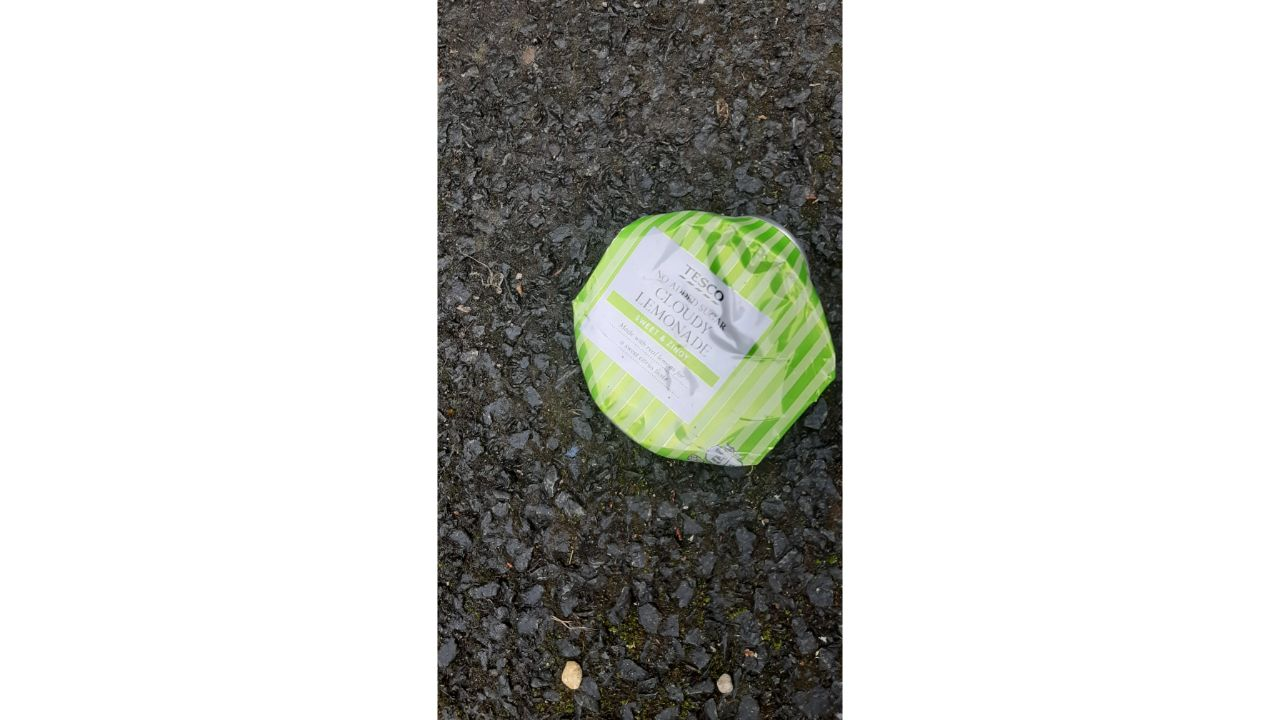Can: (570, 211, 834, 469)
